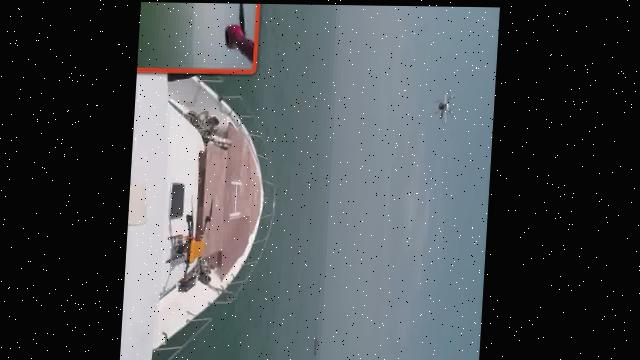drone: (165, 207, 223, 294), (426, 86, 464, 130)
